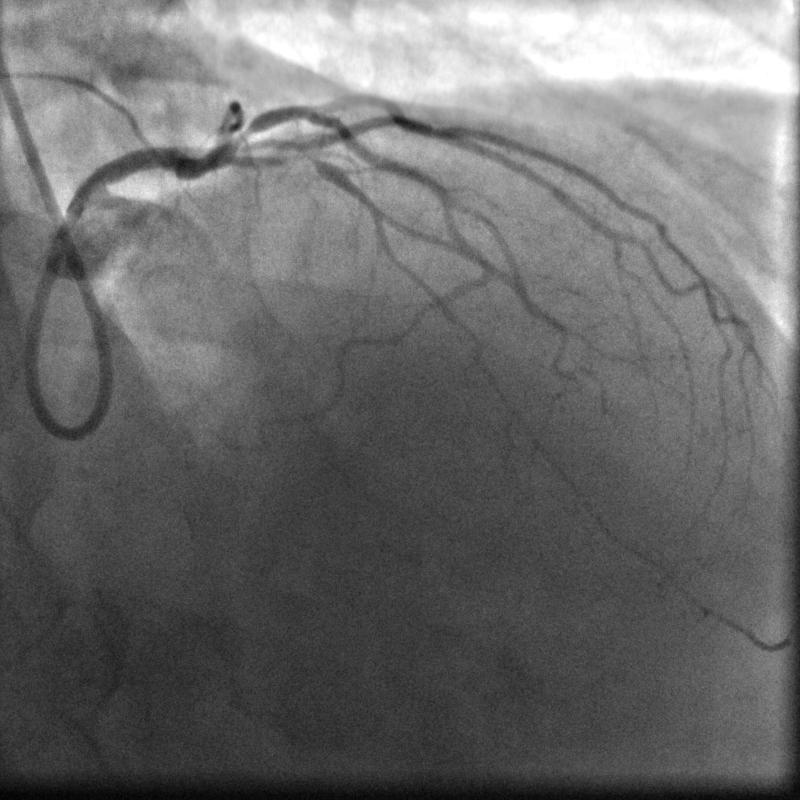Stenosis: (229, 115, 256, 148)
